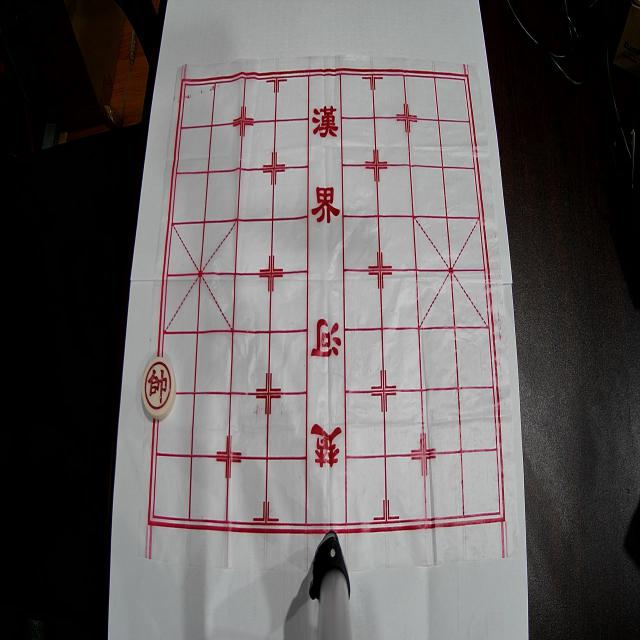red-general: (142, 357, 176, 419)
